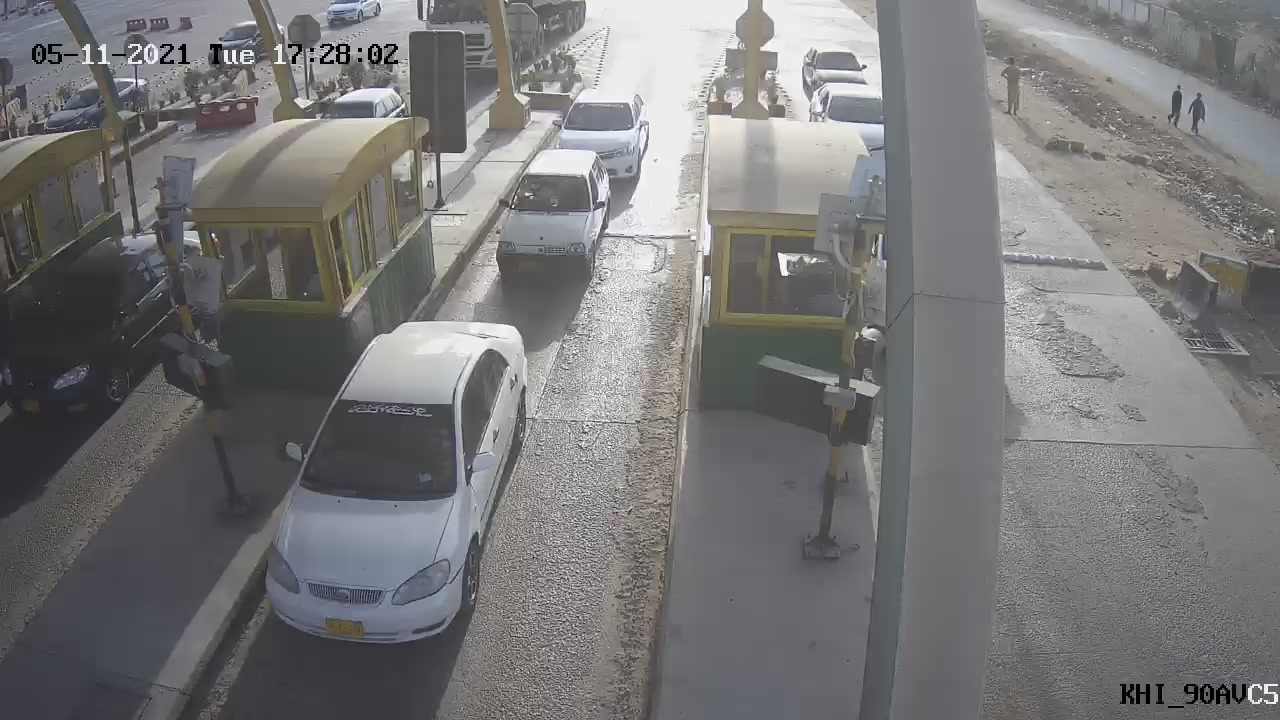F1: (481, 132, 627, 297)
